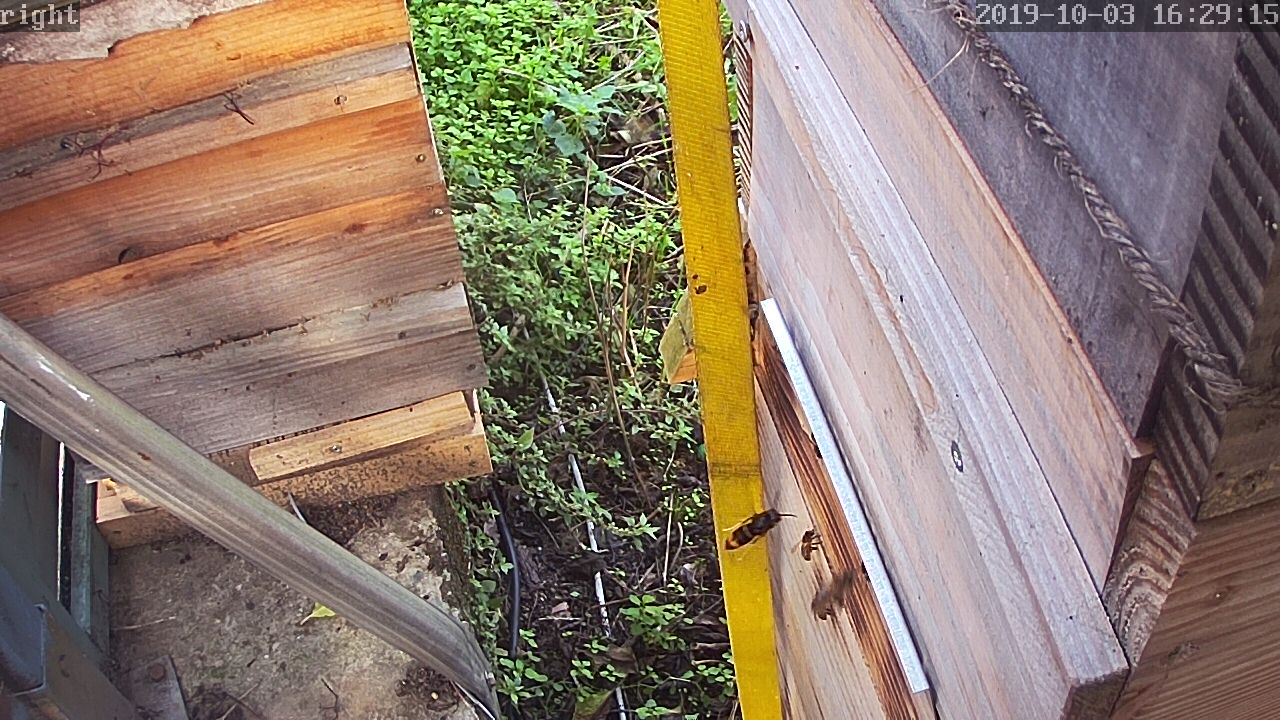bee: (808, 563, 858, 626), (795, 525, 824, 566)
hornet: (721, 502, 786, 562)
